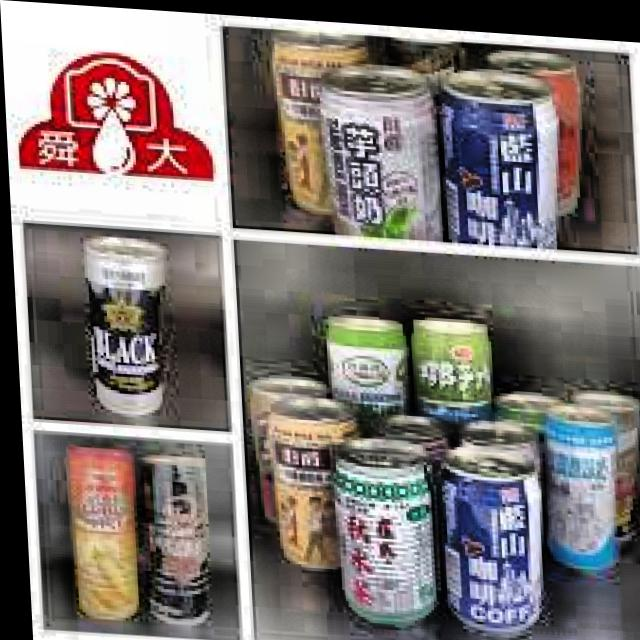can: (269, 17, 386, 214), (320, 57, 445, 236), (326, 425, 437, 626), (430, 435, 546, 627), (441, 59, 557, 249), (74, 219, 173, 424), (262, 393, 365, 570), (485, 39, 584, 211), (57, 440, 137, 626), (535, 392, 618, 571), (244, 363, 332, 521), (135, 447, 206, 625), (571, 372, 640, 542), (407, 303, 494, 431), (321, 306, 412, 421), (367, 401, 459, 469), (453, 405, 538, 450), (490, 380, 563, 428)
